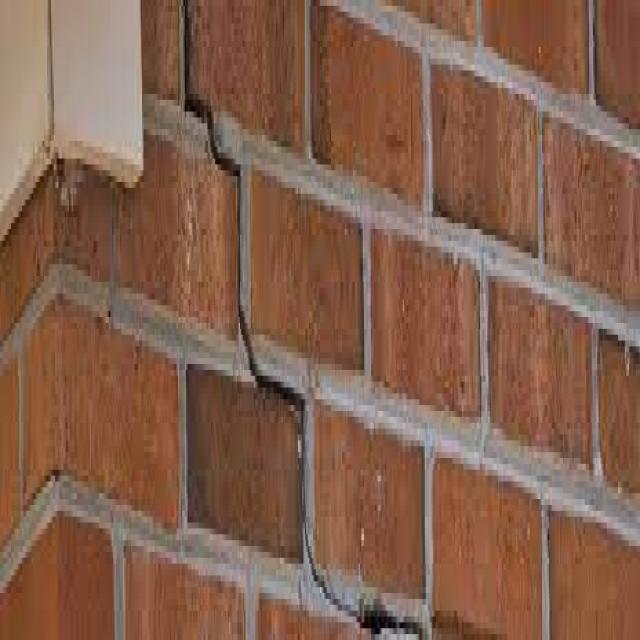Crack: (175, 0, 428, 634)
